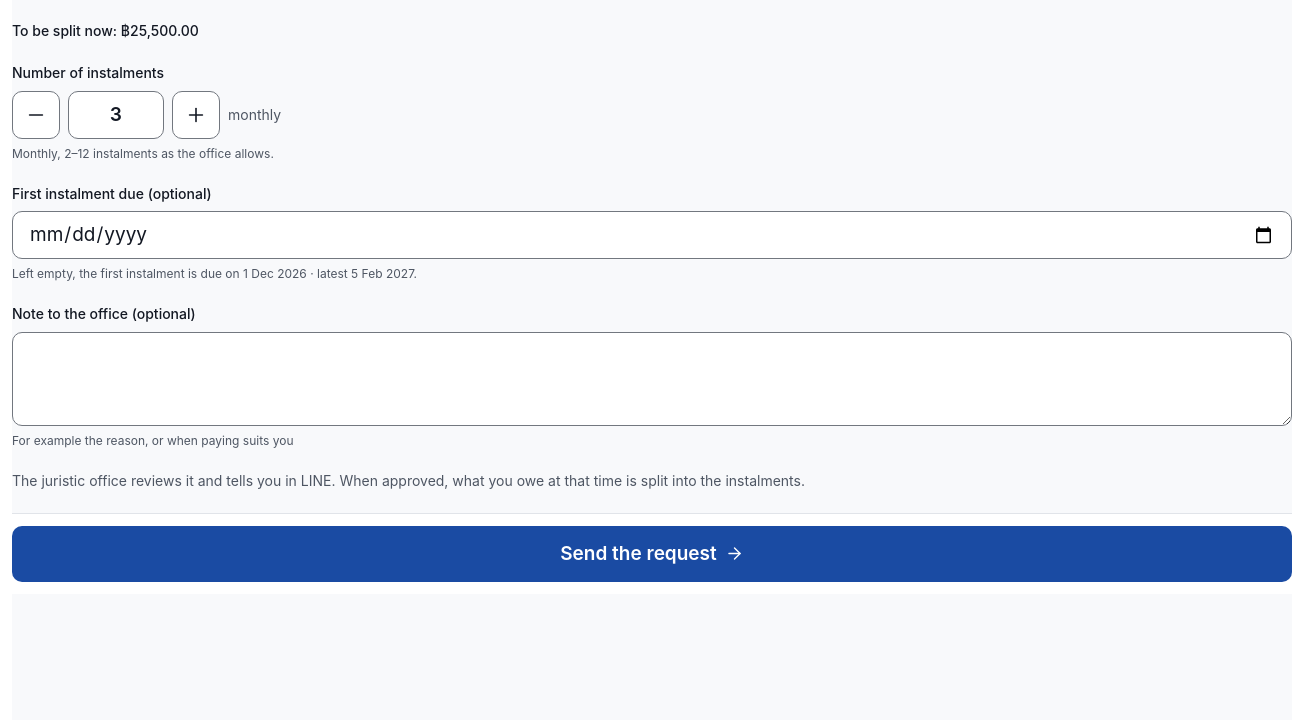
Test: PlanRequestForm › checks the office's range from the options (CR #45) and names what would be split
Expected: the text with test id "plan-principal" shows "25,500.00", left=12, top=22, right=199, bottom=39
Expected: the text "Monthly, 2–12 instalments as the office allows." is shown, left=12, top=146, right=274, bottom=161
Replace the text in the field with test id "plan-instalments" with "13" at (116, 115), box left=68, top=91, right=164, bottom=139
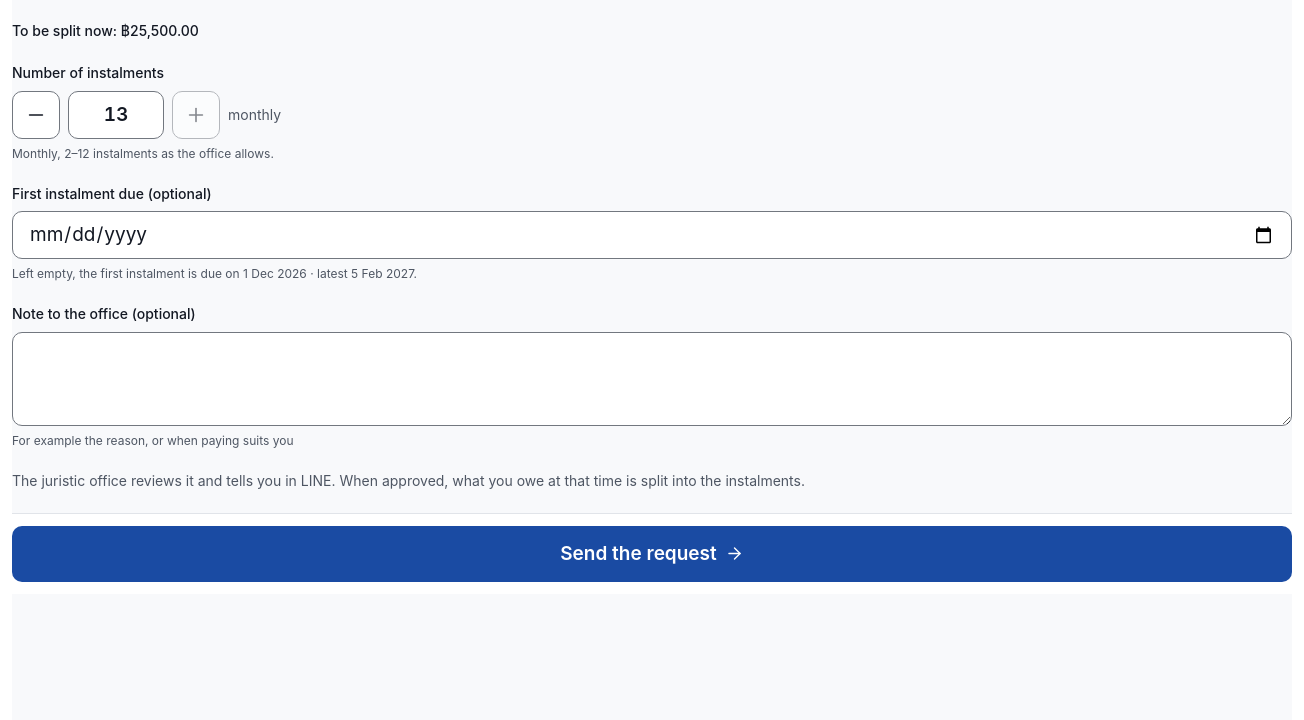
Type "2027-03-01" into the date field with test id "plan-first-due" at (652, 235), box left=12, top=211, right=1292, bottom=259
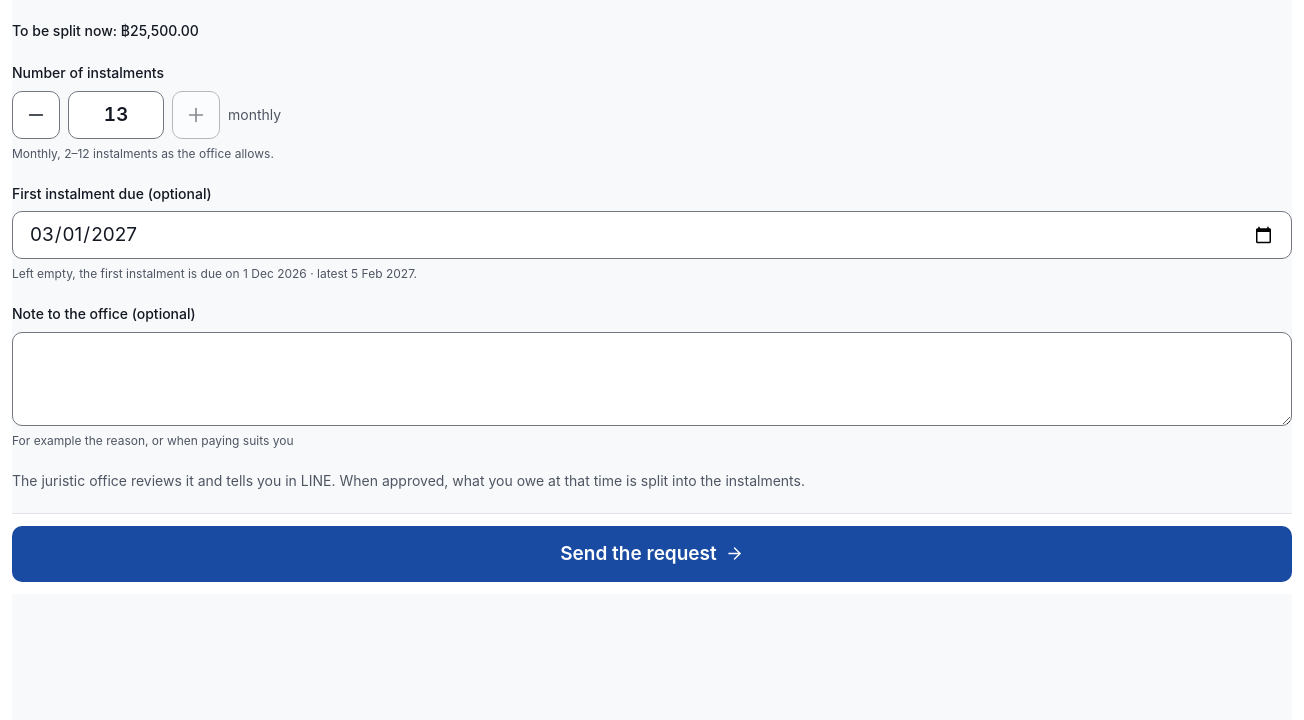
Click the button with test id "plan-submit" at (652, 554), box left=12, top=526, right=1292, bottom=582
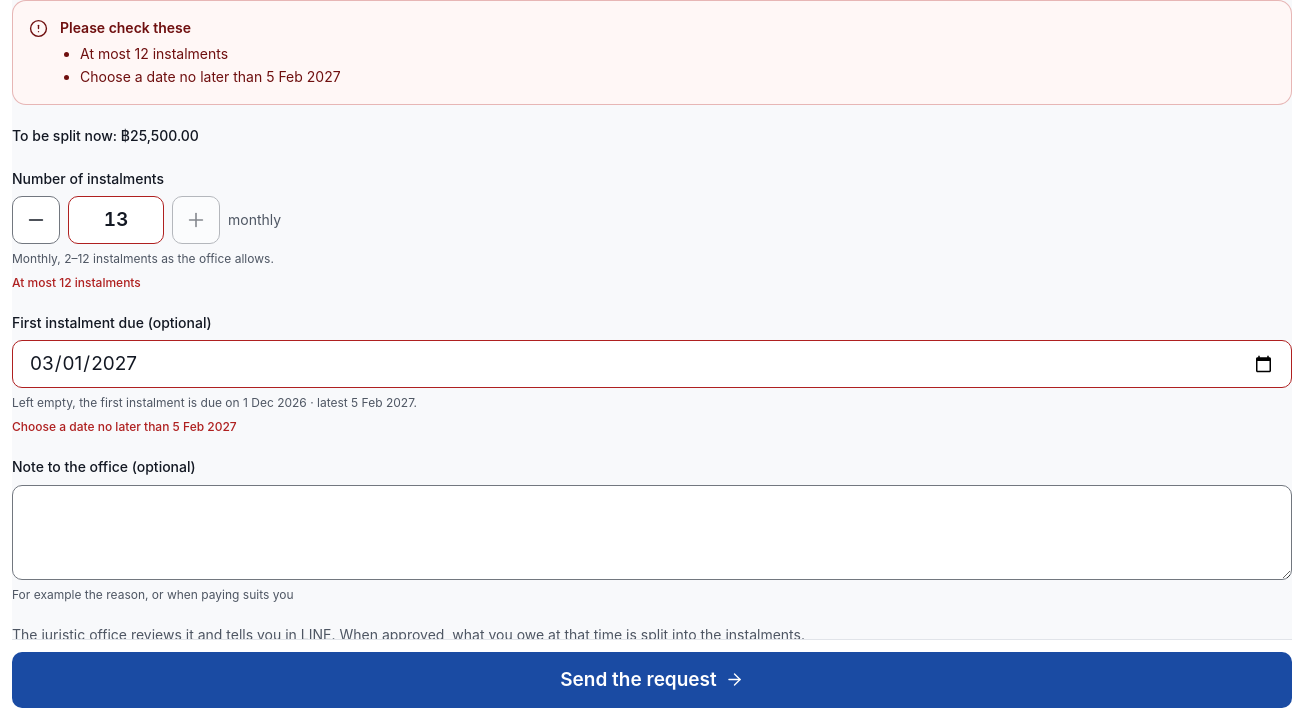
Expected: the element with test id "plan-form-summary" shows "At most 12 instalments", left=80, top=45, right=228, bottom=62
Expected: the element with test id "plan-form-summary" shows "Choose a date no later than", left=80, top=68, right=341, bottom=85
